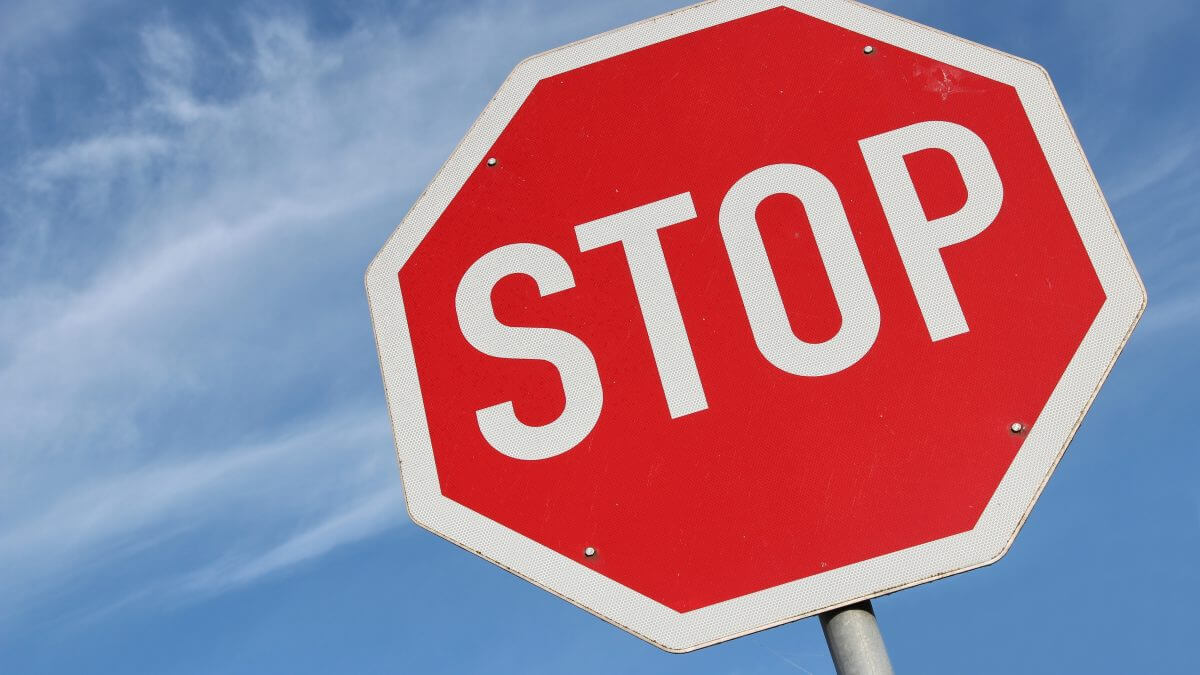stop_sign: (364, 2, 1152, 652)
